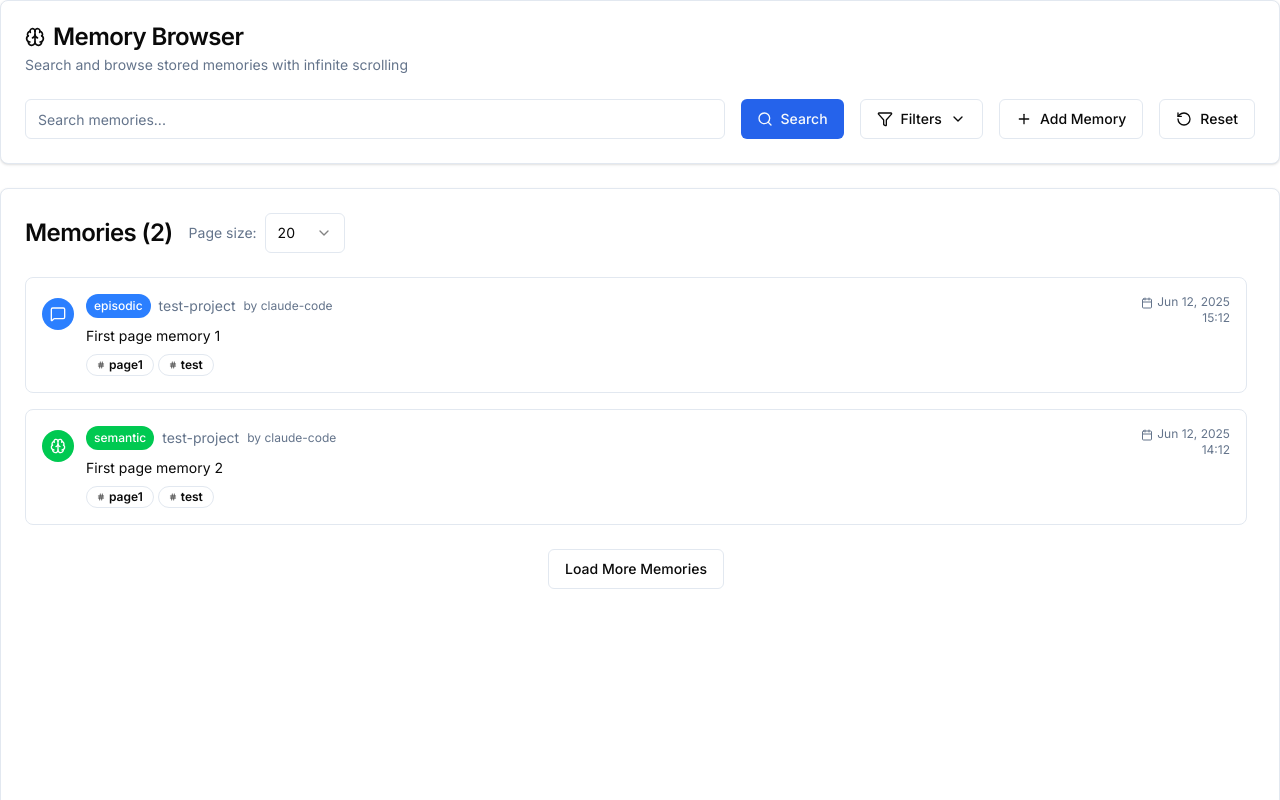
Test: MemoryBrowserInfinite › shows loading state when fetching more memories
Check: the text "First page memory 1" is shown, box [86, 327, 220, 344]
# Trigger second fetch
Click the button "Load More Memories".
click(636, 569)  # box [548, 549, 724, 589]
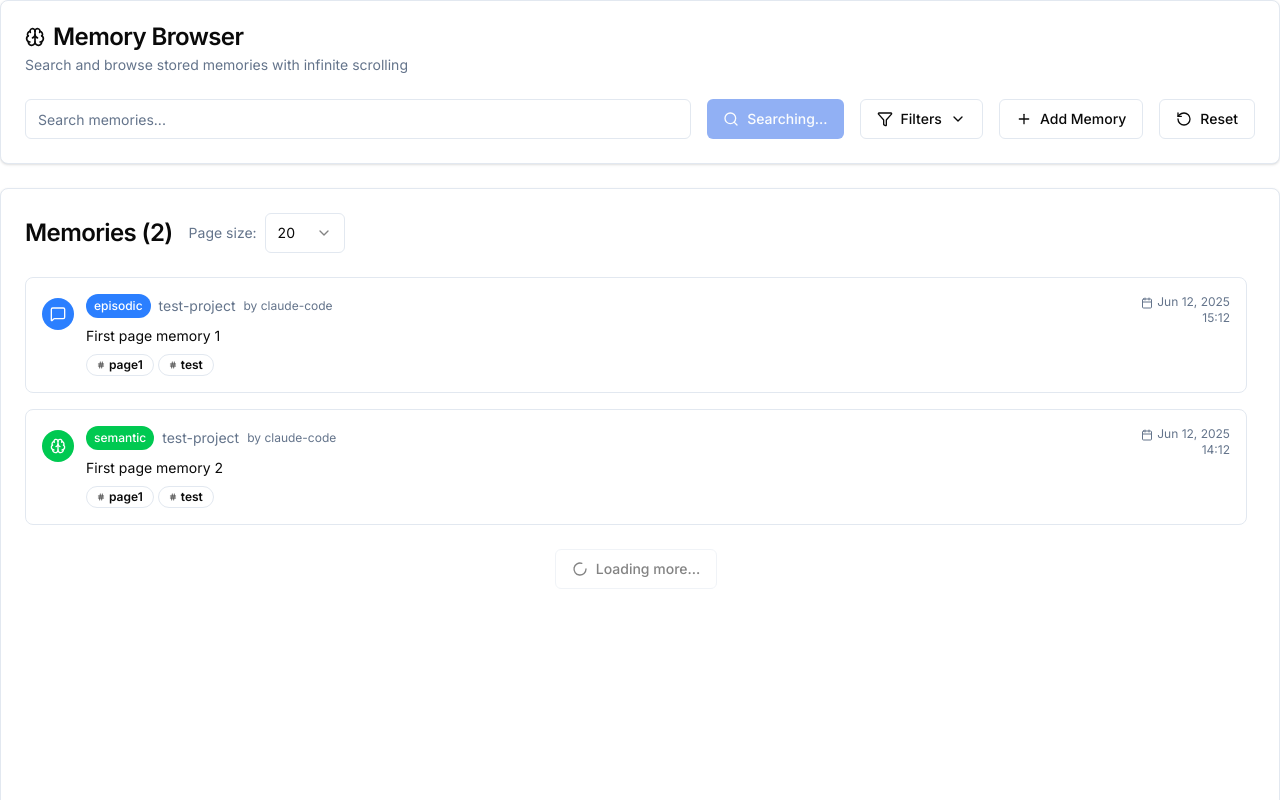
Check: the button "Loading more..." is shown, box [555, 549, 717, 589]
